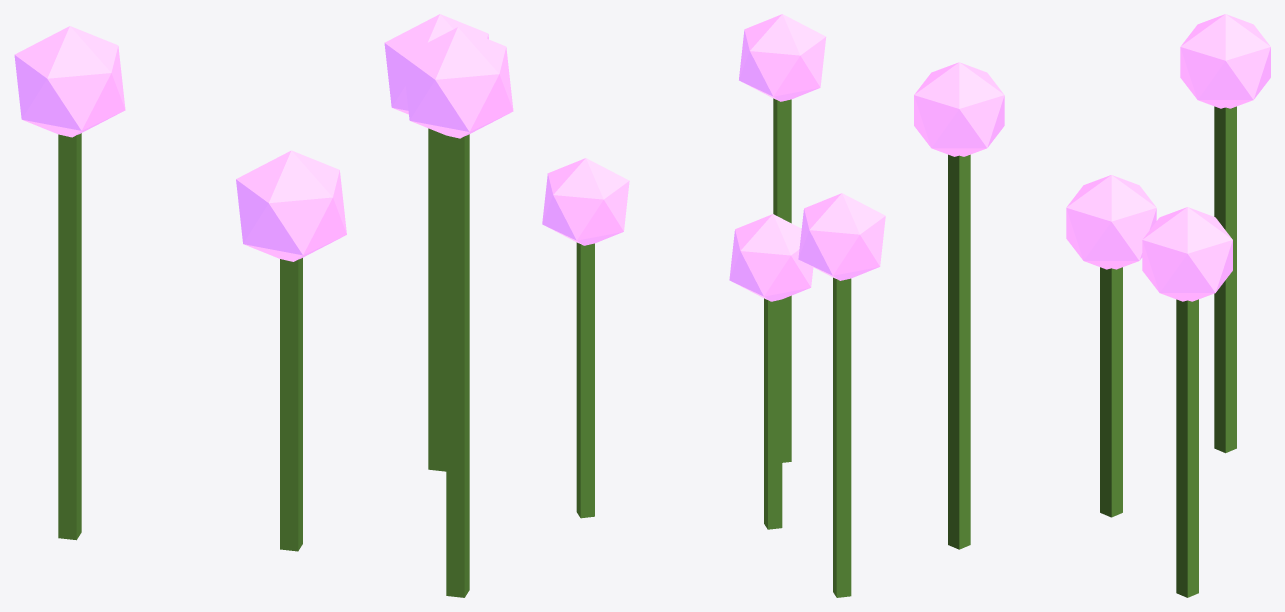
Rendered from glowing_flowers.glb.
3 views of the same model, side by side, from view 1: azimuth 30°, elevation 25°; view 2: azimuth 150°, elevation 25°; view 3: azimuth 270°, elevation 25° (orthographic). The views are drawn at different scales.
Parts seen in each view (by area): view 1: glowing_flowers; view 2: glowing_flowers; view 3: glowing_flowers.
Boxes of the visible parts, bbox=[...] form: glowing_flowers: bbox=[14, 14, 513, 597]; glowing_flowers: bbox=[542, 14, 885, 597]; glowing_flowers: bbox=[914, 14, 1270, 597].
Size of the model in its own units: 0.5752 by 0.7 by 0.4691.
